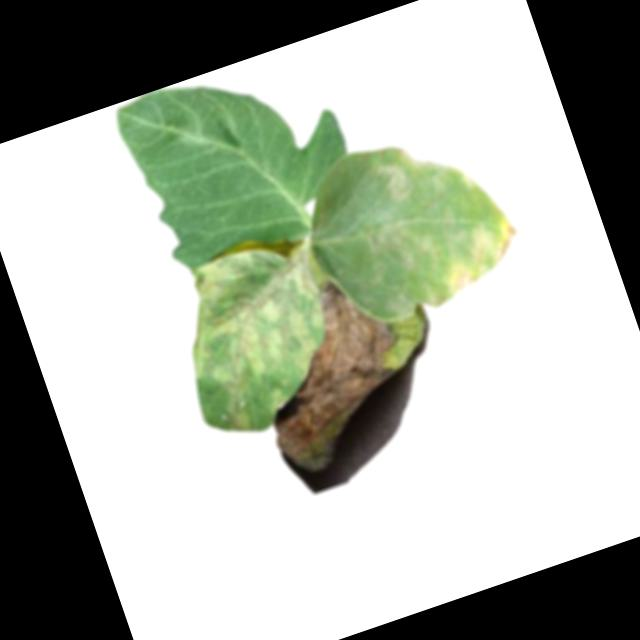Late_blight: (155, 230, 355, 449), (231, 262, 429, 480), (428, 209, 528, 298), (371, 135, 450, 207), (359, 216, 410, 257)
healthy: (106, 37, 371, 283)
